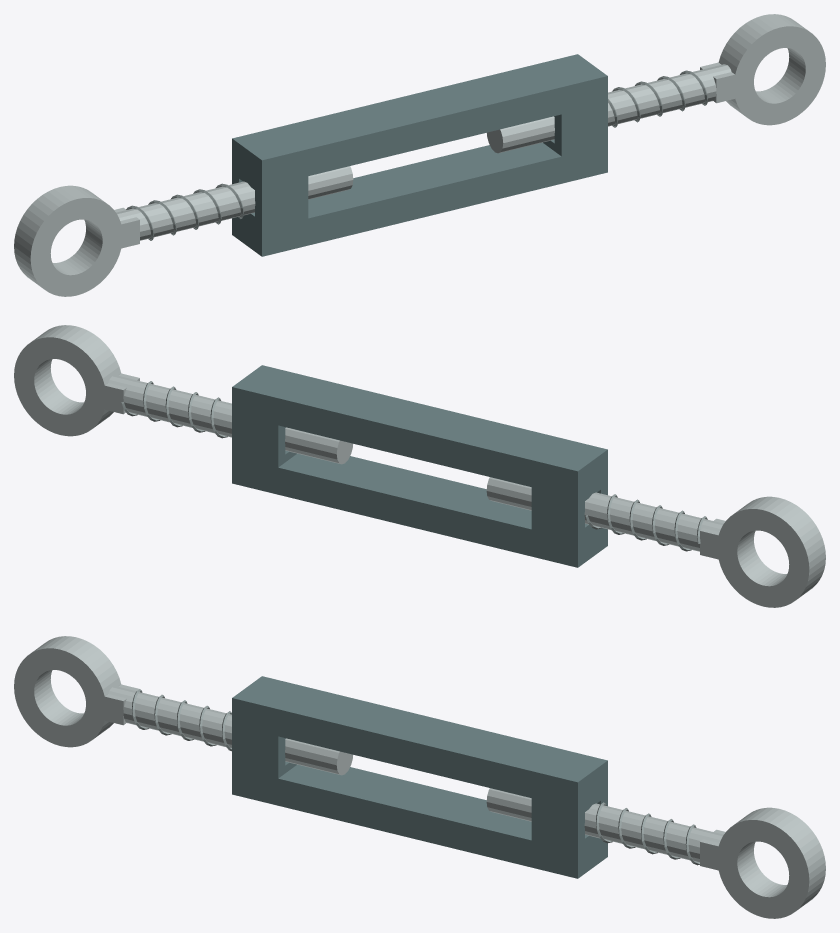
3 views of the same model, one above another, from view 1: azimuth 30°, elevation 25°; view 2: azimuth 150°, elevation 25°; view 3: azimuth 330°, elevation 25° (orthographic).
Visible parts, largest first — view 1: WholeOpenWindowAndAxialSleeveFrame, WholePiercedEyeAndShortNeckLeft, WholePiercedEyeAndShortNeckRight, WholeRoundTerminalShankRight, WholeRoundTerminalShankLeft, WholeOpposedFixedThreadRidgeLeft, WholeOpposedFixedThreadRidgeRight; view 2: WholeOpenWindowAndAxialSleeveFrame, WholePiercedEyeAndShortNeckLeft, WholePiercedEyeAndShortNeckRight, WholeRoundTerminalShankRight, WholeRoundTerminalShankLeft, WholeOpposedFixedThreadRidgeLeft, WholeOpposedFixedThreadRidgeRight; view 3: WholeOpenWindowAndAxialSleeveFrame, WholePiercedEyeAndShortNeckRight, WholePiercedEyeAndShortNeckLeft, WholeRoundTerminalShankLeft, WholeRoundTerminalShankRight, WholeOpposedFixedThreadRidgeRight, WholeOpposedFixedThreadRidgeLeft.
Boxes of the visible parts, left/top/right/bottom form: WholeOpenWindowAndAxialSleeveFrame: left=232, top=54, right=607, bottom=256; WholePiercedEyeAndShortNeckLeft: left=14, top=185, right=139, bottom=296; WholePiercedEyeAndShortNeckRight: left=700, top=14, right=825, bottom=125; WholeRoundTerminalShankRight: left=487, top=64, right=731, bottom=153; WholeRoundTerminalShankLeft: left=116, top=166, right=353, bottom=240; WholeOpposedFixedThreadRidgeLeft: left=126, top=183, right=243, bottom=240; WholeOpposedFixedThreadRidgeRight: left=608, top=70, right=707, bottom=127; WholeOpenWindowAndAxialSleeveFrame: left=232, top=365, right=607, bottom=567; WholePiercedEyeAndShortNeckLeft: left=700, top=496, right=825, bottom=607; WholePiercedEyeAndShortNeckRight: left=14, top=325, right=139, bottom=436; WholeRoundTerminalShankRight: left=108, top=375, right=352, bottom=464; WholeRoundTerminalShankLeft: left=486, top=477, right=723, bottom=551; WholeOpposedFixedThreadRidgeLeft: left=585, top=494, right=707, bottom=551; WholeOpposedFixedThreadRidgeRight: left=121, top=381, right=227, bottom=438; WholeOpenWindowAndAxialSleeveFrame: left=232, top=676, right=607, bottom=878; WholePiercedEyeAndShortNeckRight: left=700, top=807, right=825, bottom=918; WholePiercedEyeAndShortNeckLeft: left=14, top=636, right=139, bottom=747; WholeRoundTerminalShankLeft: left=108, top=686, right=352, bottom=775; WholeRoundTerminalShankRight: left=486, top=788, right=723, bottom=862; WholeOpposedFixedThreadRidgeRight: left=596, top=802, right=699, bottom=865; WholeOpposedFixedThreadRidgeLeft: left=132, top=689, right=231, bottom=751.
Size of the model in its own units: 1.38 by 0.16 by 0.09.
